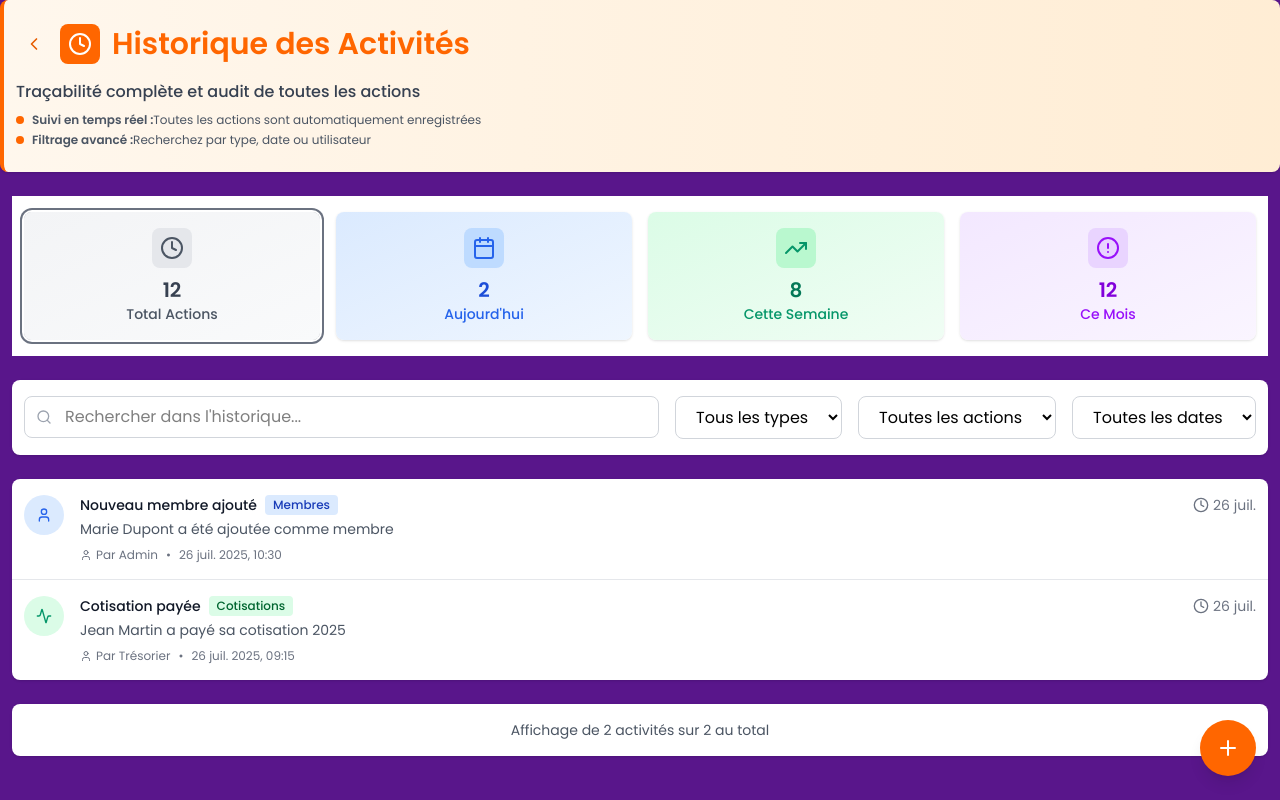
HistoryPage › filtre les activités par recherche
Type "Marie" into the field with placeholder "Rechercher dans l'historique..." at {"x": 342, "y": 417}, box [24,396,659,438]
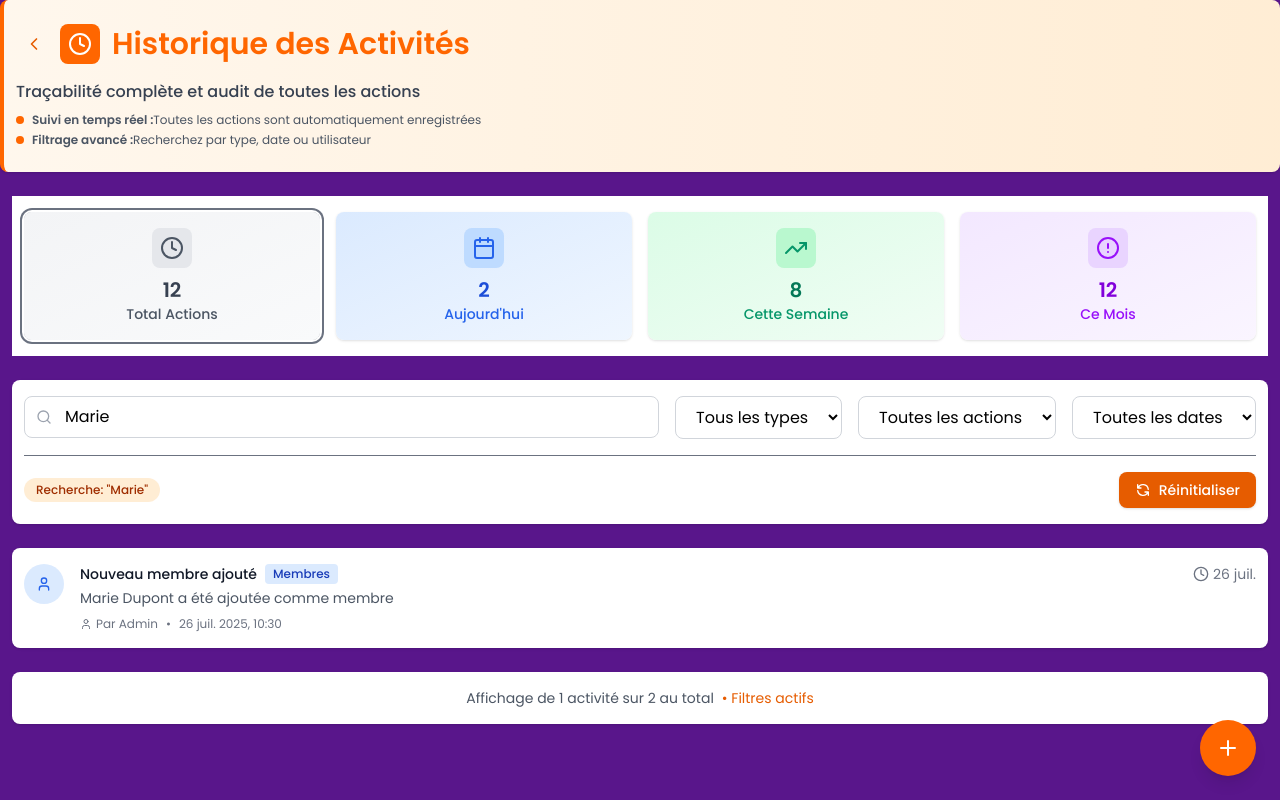
Expected: the heading "Nouveau membre ajouté" is shown, [80,564,257,584]
Expected: the heading "Cotisation payée" is gone
